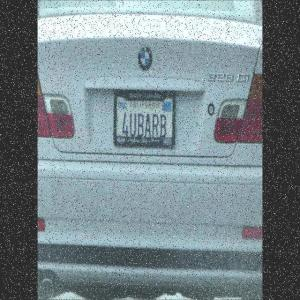Plate: (114, 88, 174, 148)
